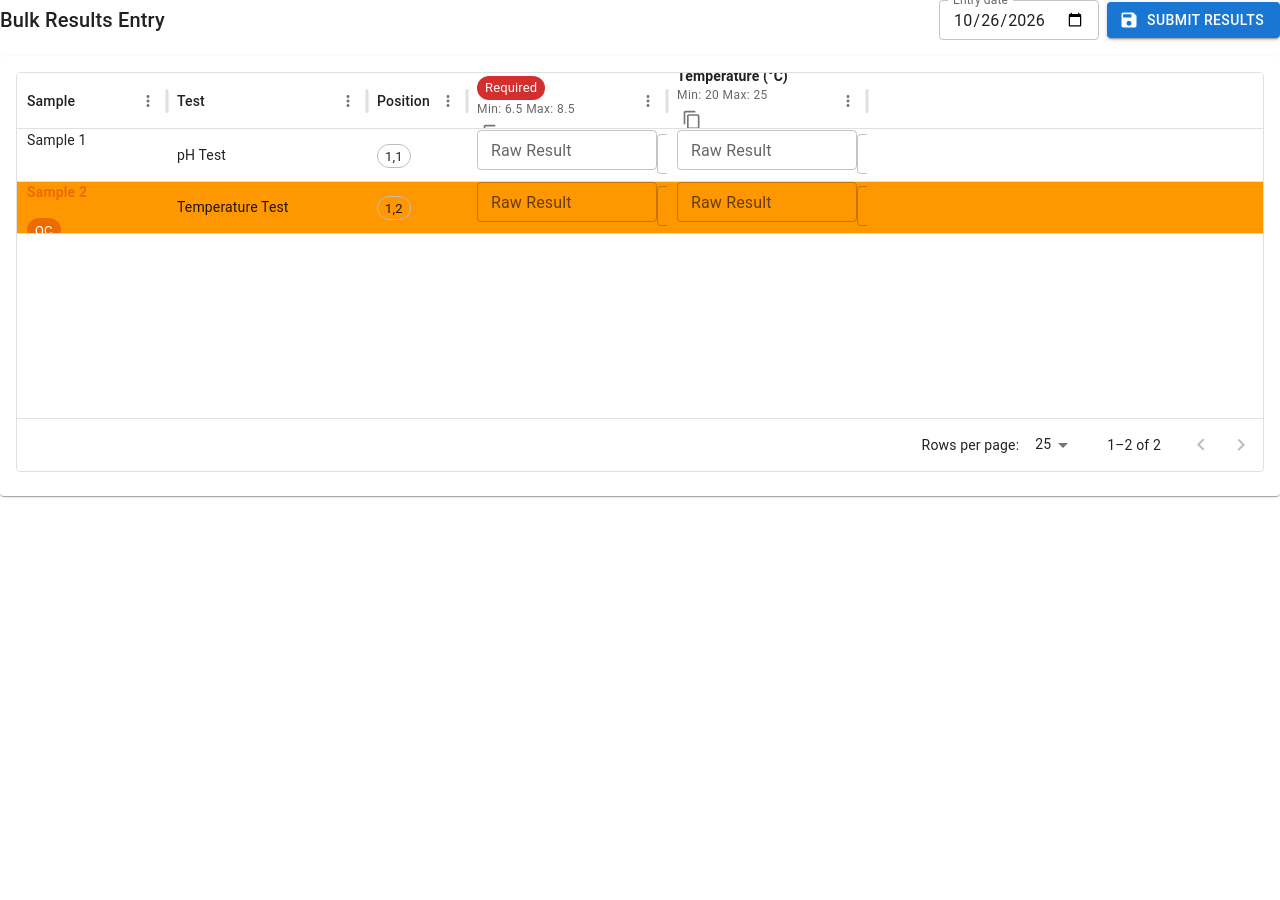
BatchResultsEntryTable › handles validation errors before submission
The width and height of the screenshot is (1280, 900).
// Try to submit without required fields
What coordinates should you click on to do the following:
click the button "Submit Results"
I would click on:
 (1194, 20)
Its box is top-left (1107, 2), bottom-right (1279, 38).
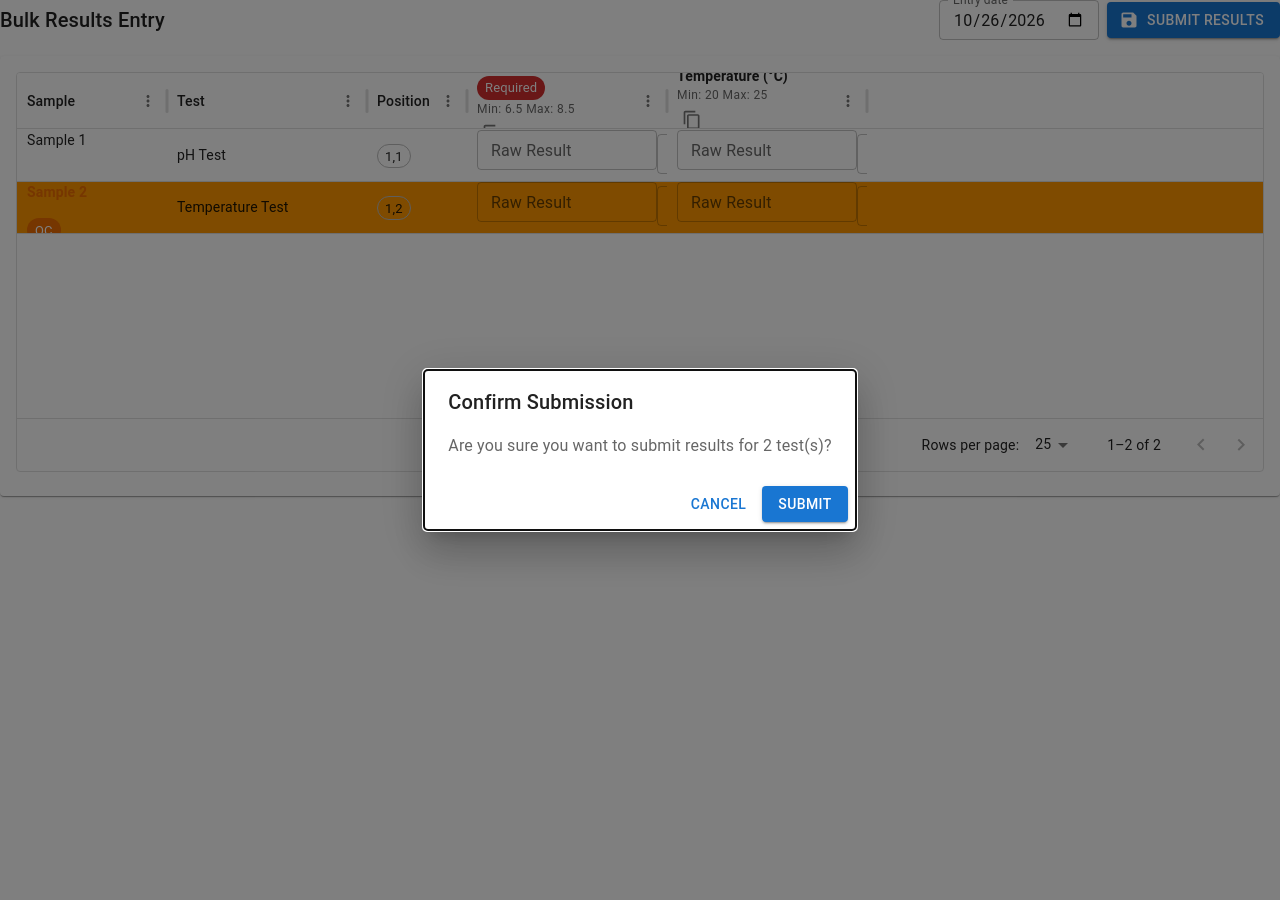
Expected: the heading "Confirm Submission" is shown, top-left (448, 390), bottom-right (634, 414)
What coordinates should you click on to do the following:
click the button "Submit"
I would click on:
 (805, 504)
Its box is top-left (762, 486), bottom-right (848, 522).
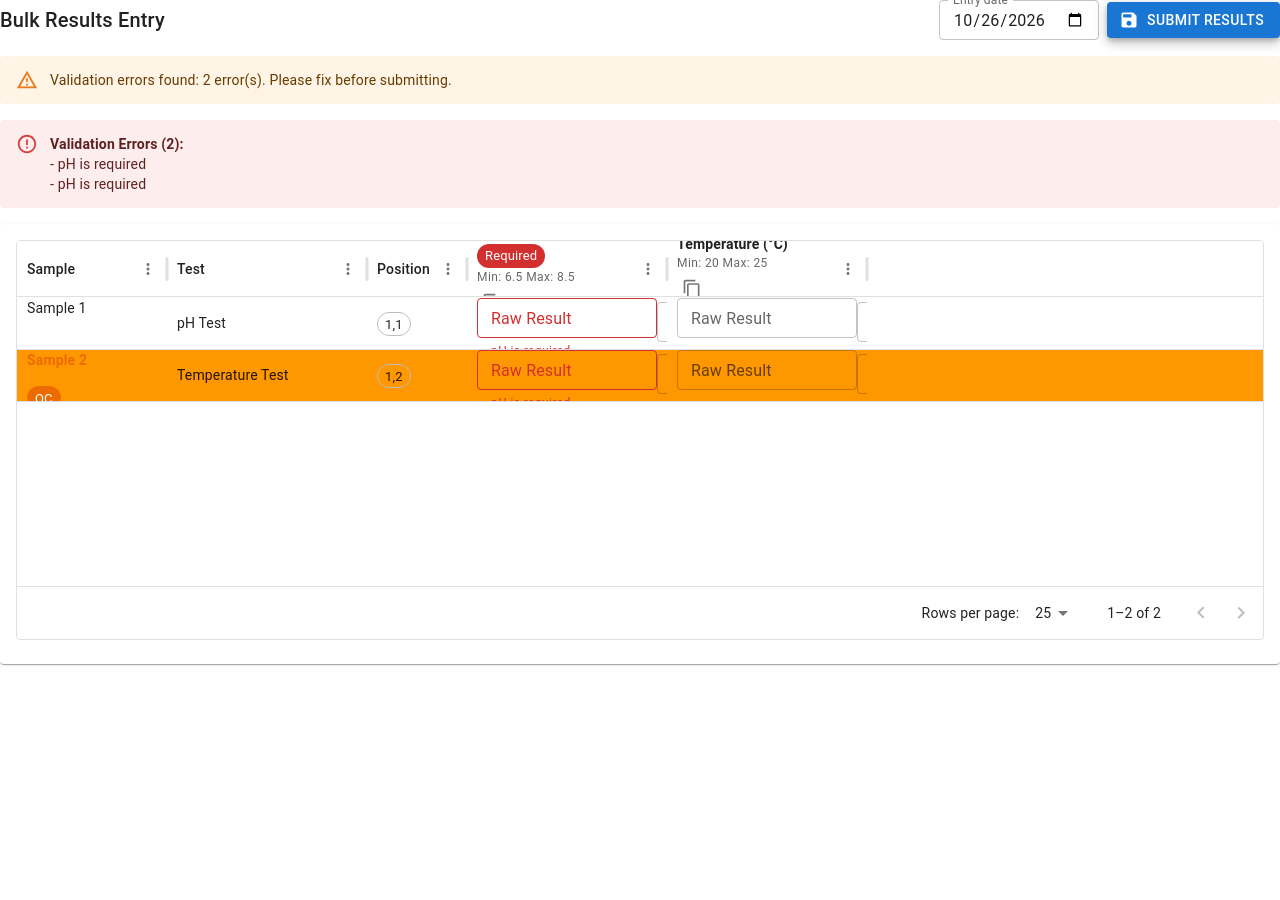
Expected: the text "Validation errors found" is shown, top-left (50, 72), bottom-right (452, 88)
